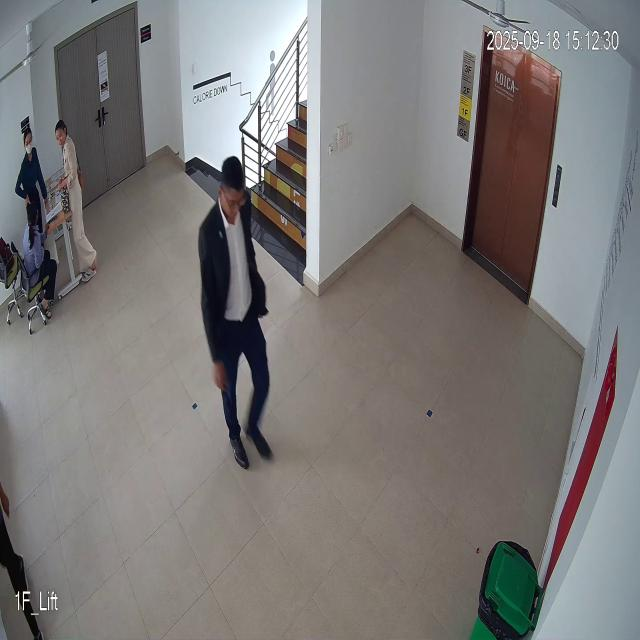face: (213, 150, 248, 224)
